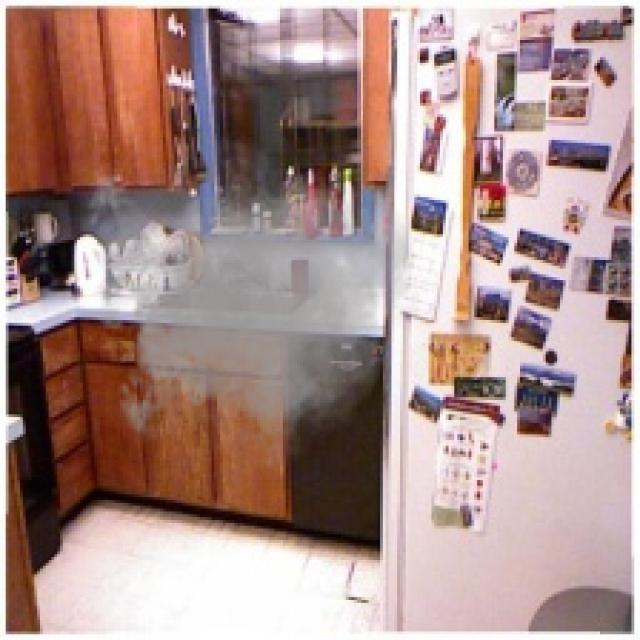smoke: (77, 120, 420, 489)
